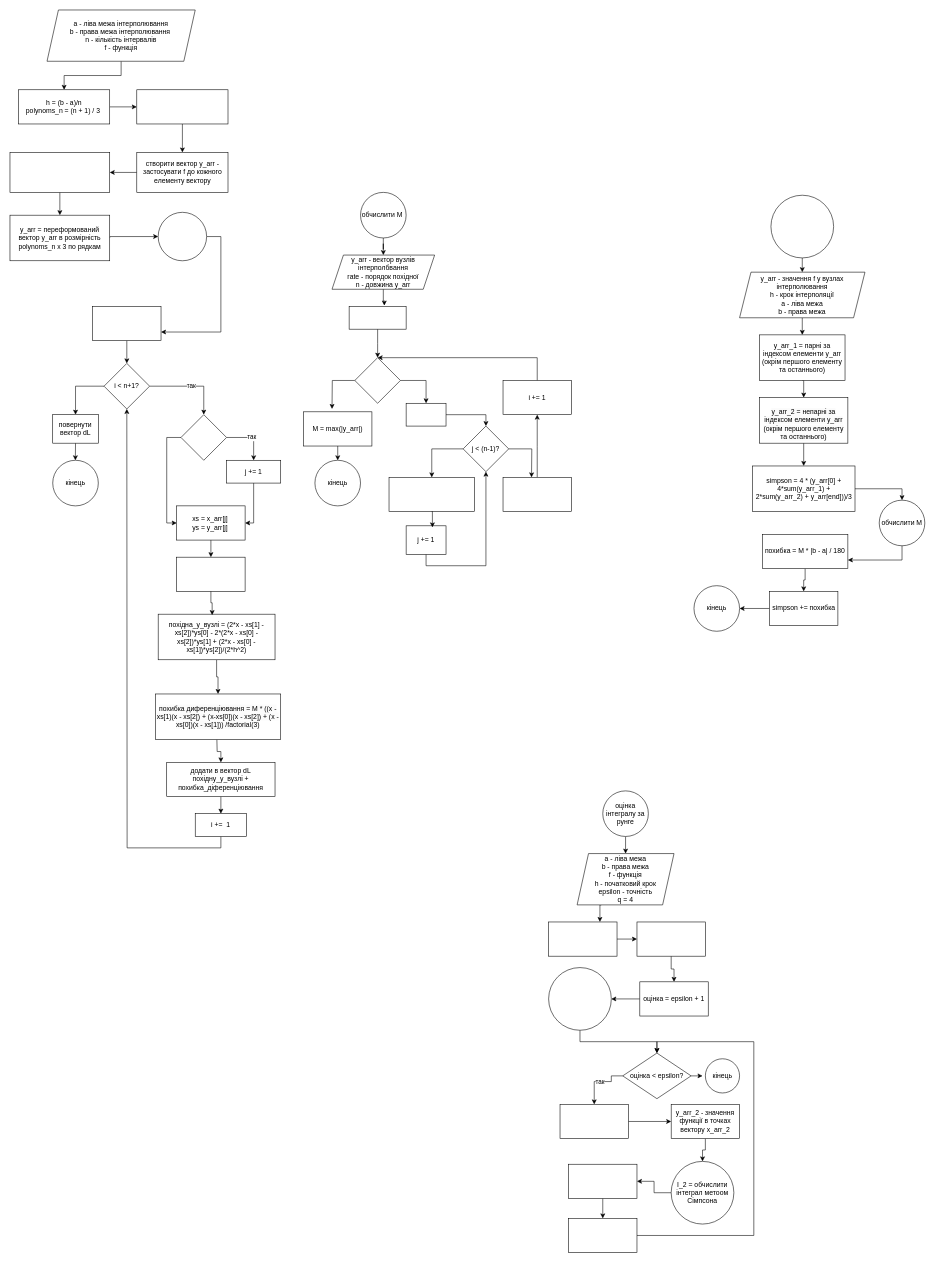
The diagram is 935 pixels wide and 1263 high, and some of its shapes have lost their labels. The shapes that lost their labels are listed below. From the top down, each one's centre as x and y in pixels, then its label:
At point (182, 106): "створити вектор x_arr, з a по b з кроком h".
At point (59, 172): "x_arr = переформований вектор x_arr в розмірність polynoms_n x 3 по рядкам".
At point (182, 236): "Знайти M = max(f''(etha)) на проміжку [a, b]".
At point (802, 226): "обчислити інтеграл методом Сіпмпсона".
At point (126, 323): "створити вектор dL, j = -1, i = 0".
At point (377, 317): "i = 0".
At point (377, 380): "i < rate?".
At point (426, 414): "j = 0".
At point (203, 437): "i % 3 == 0?".
At point (431, 494): "y_temp += [ys[j + 1] - ys[j]".
At point (536, 494): "y_arr = y_temp".
At point (210, 574): "x = xs[i % 3]".
At point (582, 938): "x_arr_1 - вектор з а по b з кроком h".
At point (670, 938): "y_arr_1 - значення функції в точках вектору x_arr_1".
At point (579, 998): "I_1 = обчислити інтеграл метоом Сімпсона".
At point (593, 1121): "x_arr_2 - вектор з а по b з кроком h/2".
At point (602, 1181): "оцінка =|I_2 - I_1|/(2^q - 1)".
At point (602, 1235): "h /= 2 y_arr_1 = y_arr_2 I_1 = I_2".
